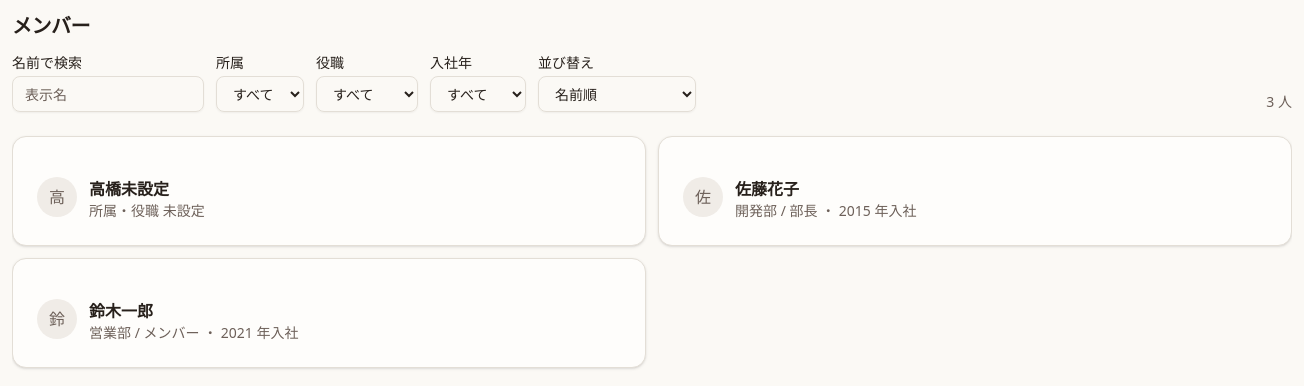
it: ProfilesPage › 所属で絞り込める（未設定ユーザーは出ない）
Expected: the heading "佐藤花子" is shown, [735, 178, 799, 200]
Select "開発部" in the dropdown labelled "所属": (260, 94) [216, 76, 304, 112]
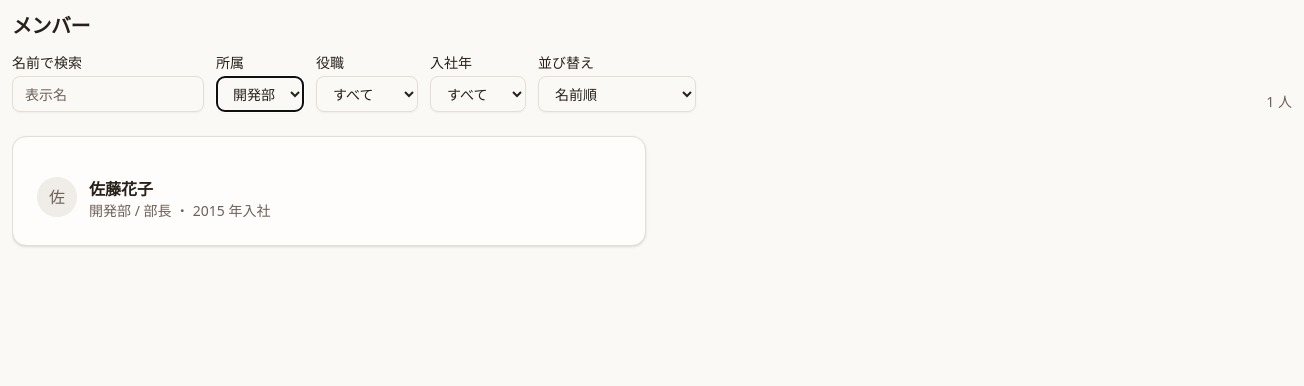
Expected: the heading "佐藤花子" is shown, [89, 178, 153, 200]
Expected: the link "鈴木一郎" is gone
Expected: the link "高橋未設定" is gone
